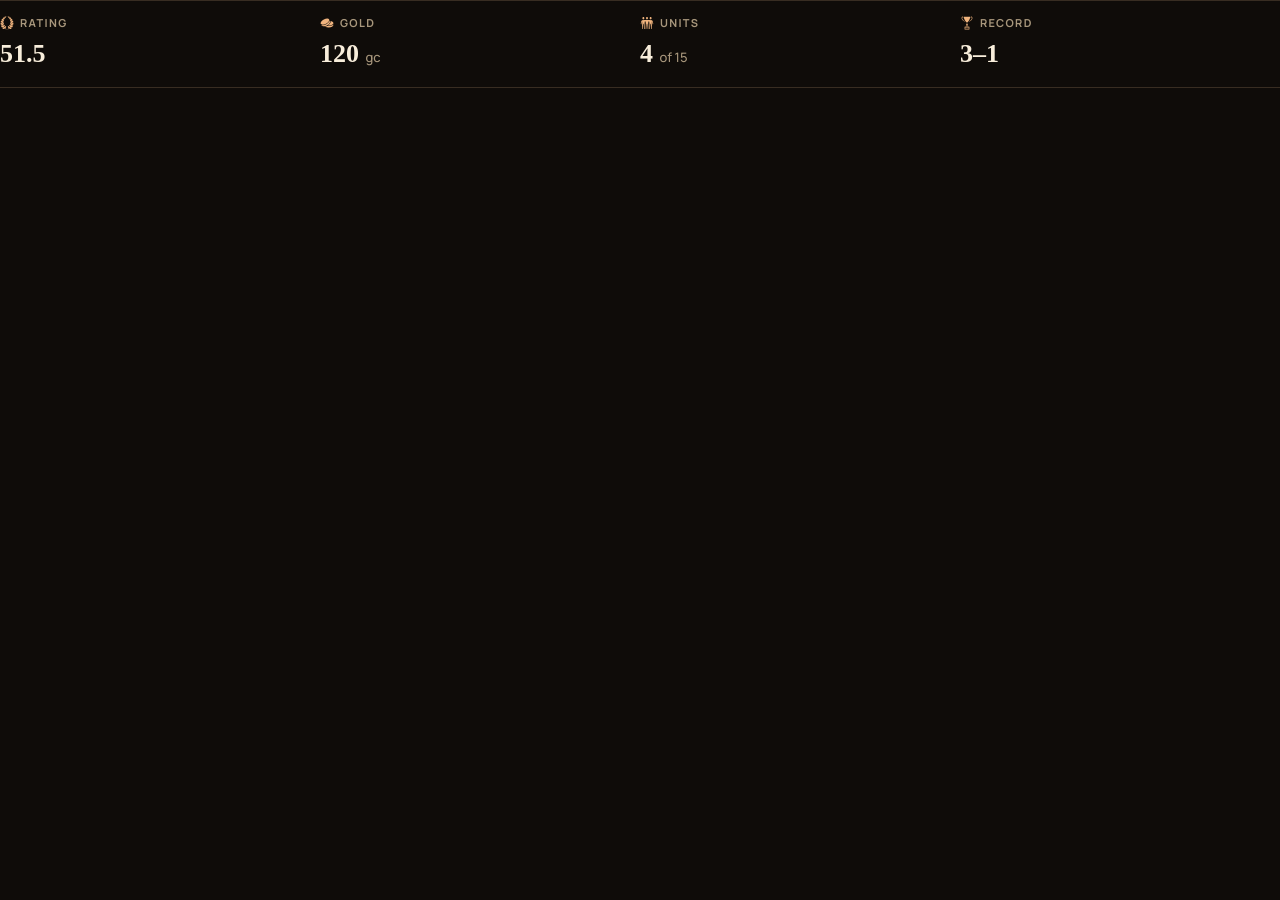
The header's windows › lists every unit by kind with its level
Click the button with aria-label "Units 4 of 15": (646, 53) [640, 34, 948, 72]
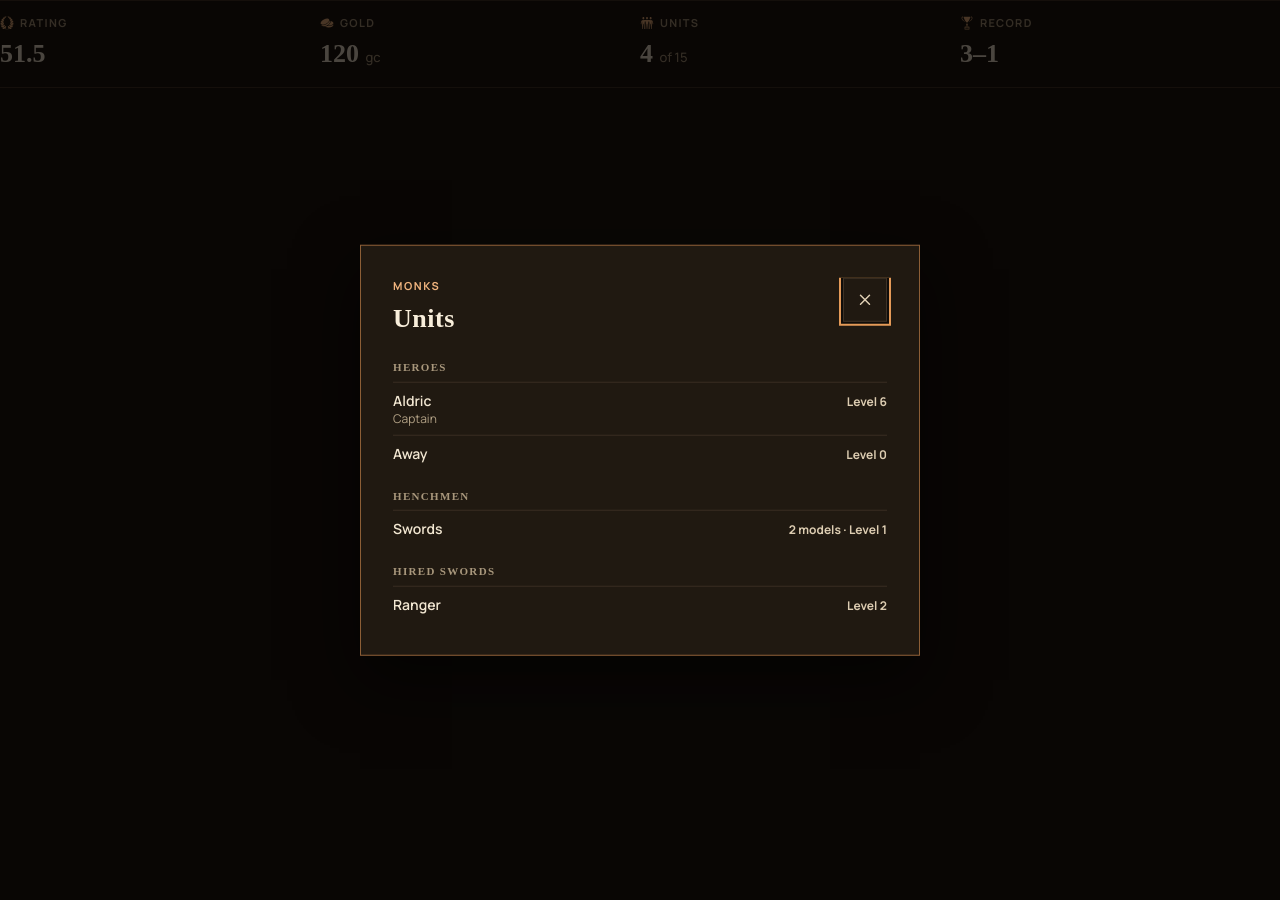
Expected: the text "Aldric" is shown, [393, 390, 432, 409]
Expected: the text "Captain" is shown, [393, 409, 437, 426]
Expected: the text "Level 6" is shown, [847, 393, 887, 409]
